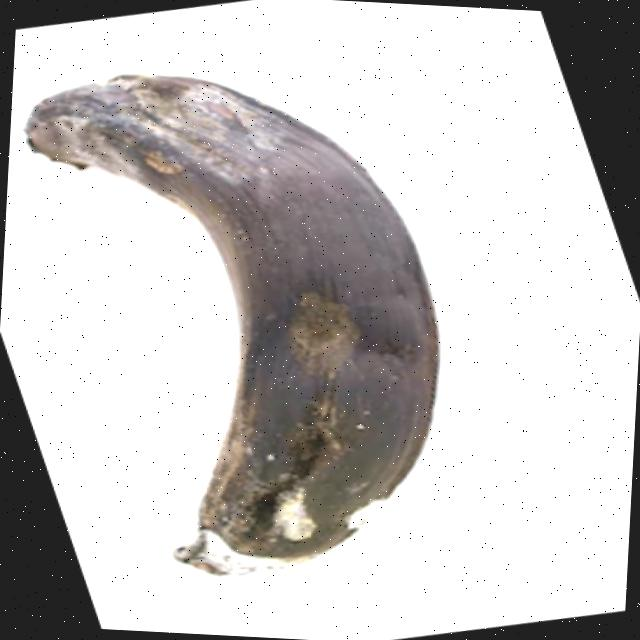Rotten: (0, 69, 453, 585)
